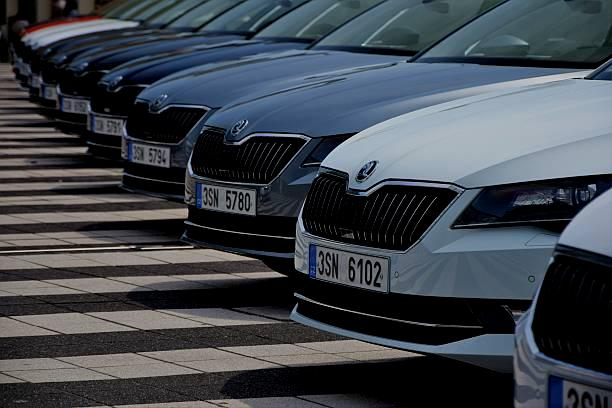skoda: (353, 157, 380, 190), (227, 117, 251, 140)
